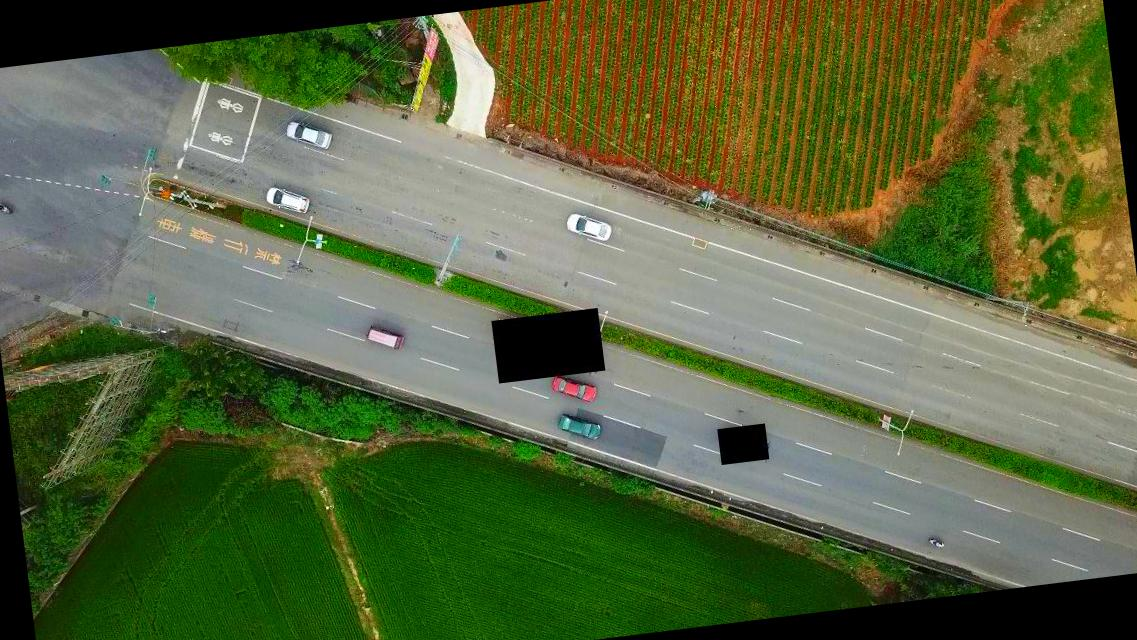vehicle: (284, 114, 336, 155), (553, 408, 604, 445), (563, 208, 613, 244), (550, 372, 597, 406), (265, 183, 310, 217), (364, 322, 406, 354)
